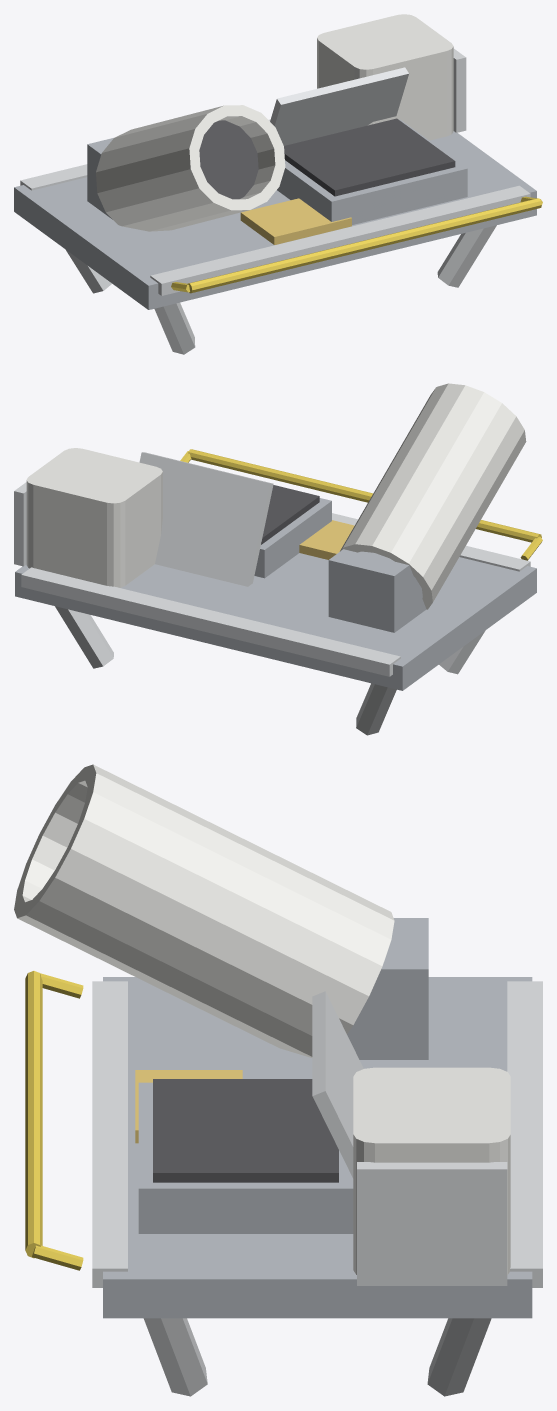
Rendered from orbital-station-and-docking-bays-experiment-platform-a692c035__24561.glb.
3 views of the same model, one above another, from view 1: azimuth 30°, elevation 25°; view 2: azimuth 150°, elevation 25°; view 3: azimuth 270°, elevation 25° (orthographic). The views are drawn at different scales.
Parts seen in each view (by area): view 1: experiment-platform, tray-lid; view 2: experiment-platform, tray-lid; view 3: experiment-platform, tray-lid.
Boxes of the visible parts, x1=… form: experiment-platform: x1=14, y1=14, x2=542, y2=354; tray-lid: x1=270, y1=67, x2=408, y2=145; experiment-platform: x1=14, y1=383, x2=542, y2=735; tray-lid: x1=139, y1=452, x2=273, y2=586; experiment-platform: x1=14, y1=764, x2=542, y2=1396; tray-lid: x1=312, y1=991, x2=363, y2=1178.
Size of the model in its own units: 2.04 by 1.29 by 1.48.
